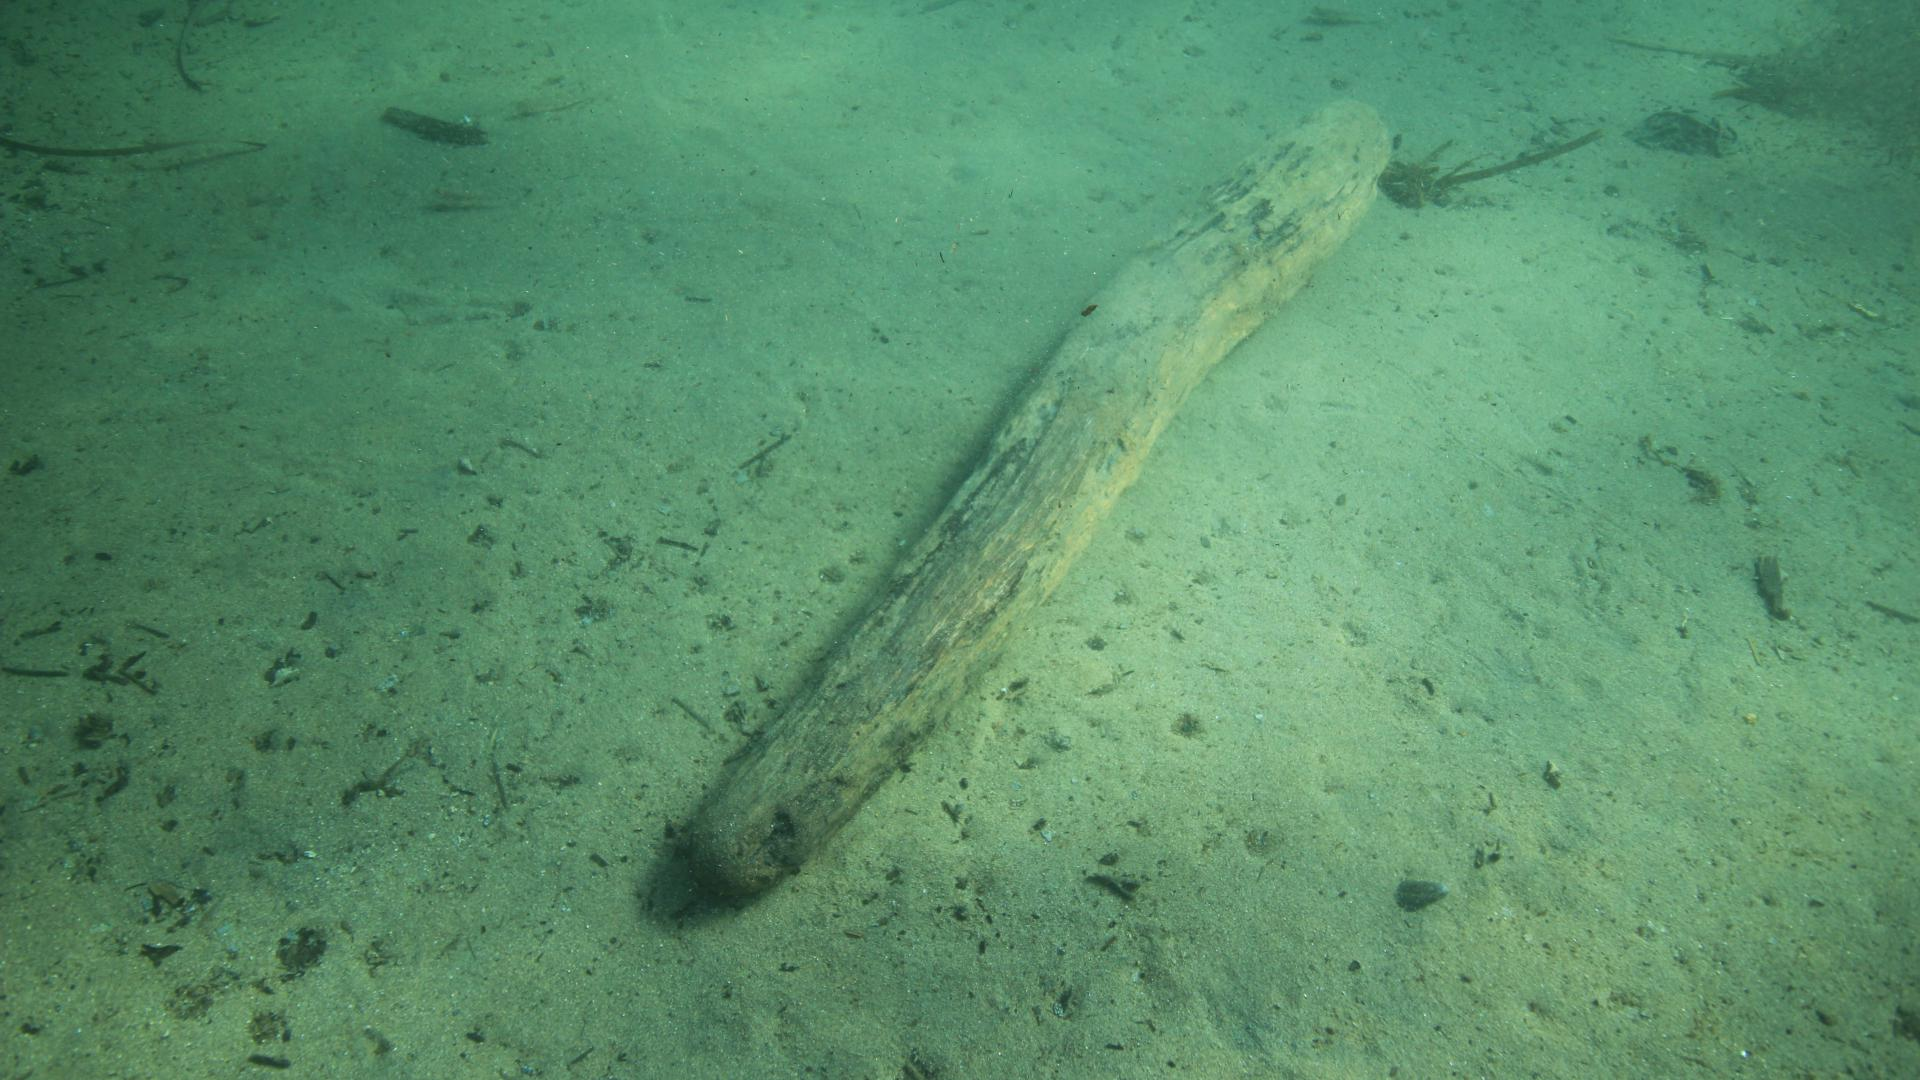wood: (684, 95, 1393, 895)
